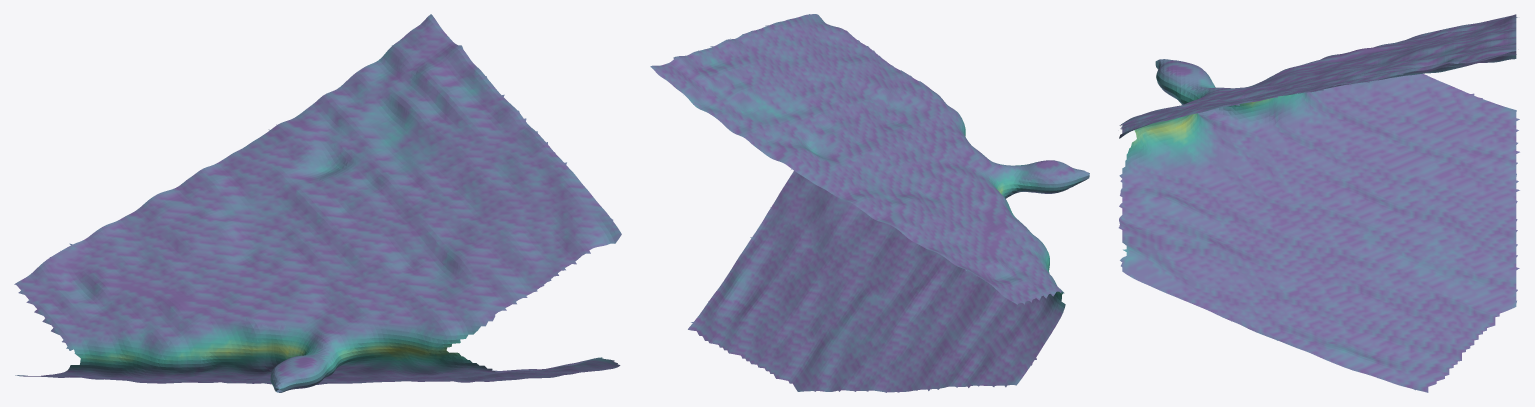
Rendered from crop1125_gap.glb.
3 renders of one model, left to right at view 1: azimuth 30°, elevation 25°; view 2: azimuth 150°, elevation 25°; view 3: azimuth 270°, elevation 25°, orthographic. The views are drawn at different scales.
Visible parts, largest first — view 1: world; view 2: world; view 3: world.
Boxes of the visible parts, box(x1,y1,x2,y2) form: world: box(14, 14, 621, 392); world: box(650, 14, 1089, 392); world: box(1118, 14, 1519, 392).
Size of the model in its own units: 1933 by 1441 by 1535.
